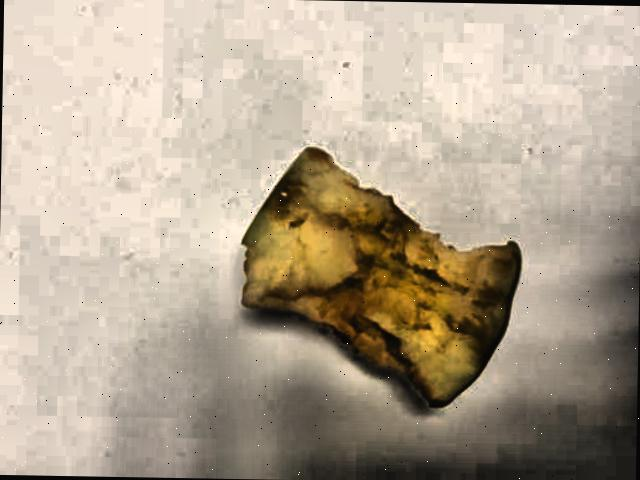Almennt: (216, 123, 563, 434)
